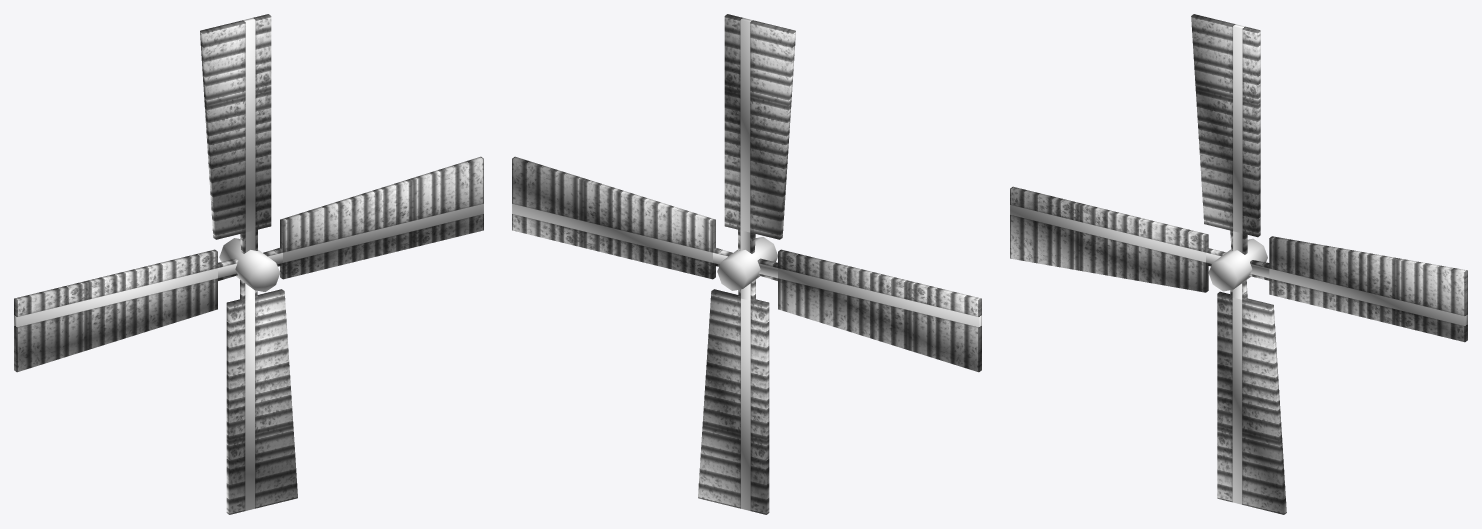
The model's file is windmill_arm1.glb.
3 renders of one model, left to right at view 1: azimuth 30°, elevation 25°; view 2: azimuth 150°, elevation 25°; view 3: azimuth 330°, elevation 25°, orthographic. The views are drawn at different scales.
Parts seen in each view (by area): view 1: windmill_arm.jpg__, ribbed_steel.jpg__; view 2: windmill_arm.jpg__, ribbed_steel.jpg__; view 3: windmill_arm.jpg__, ribbed_steel.jpg__.
Boxes of the visible parts, x1=… form: windmill_arm.jpg__: x1=14, y1=14, x2=483, y2=514; ribbed_steel.jpg__: x1=219, y1=238, x2=280, y2=291; windmill_arm.jpg__: x1=512, y1=14, x2=981, y2=514; ribbed_steel.jpg__: x1=717, y1=237, x2=777, y2=290; windmill_arm.jpg__: x1=1010, y1=14, x2=1467, y2=514; ribbed_steel.jpg__: x1=1208, y1=238, x2=1267, y2=291.
Size of the model in its own units: 37.82 by 37.82 by 4.35.
2 materials, 1 textured.
